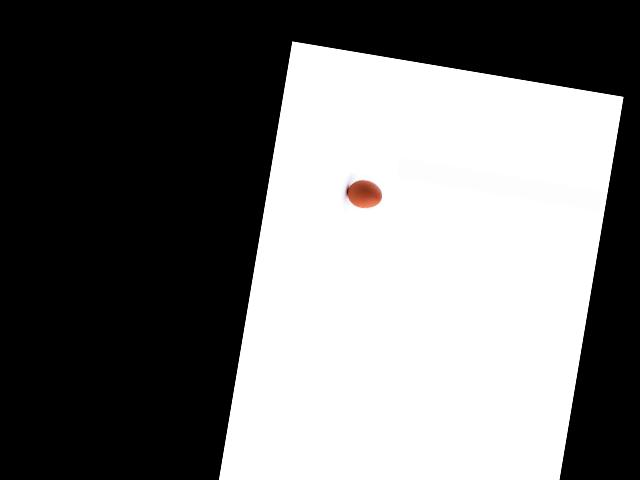egg: (345, 177, 383, 210)
